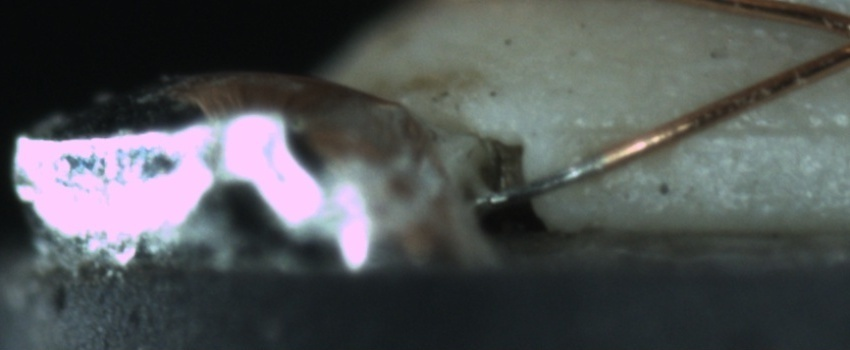CL: (829, 13, 850, 61)
DL: (558, 99, 849, 161)
TS: (479, 155, 609, 206)
TTCW: (470, 140, 631, 208)
